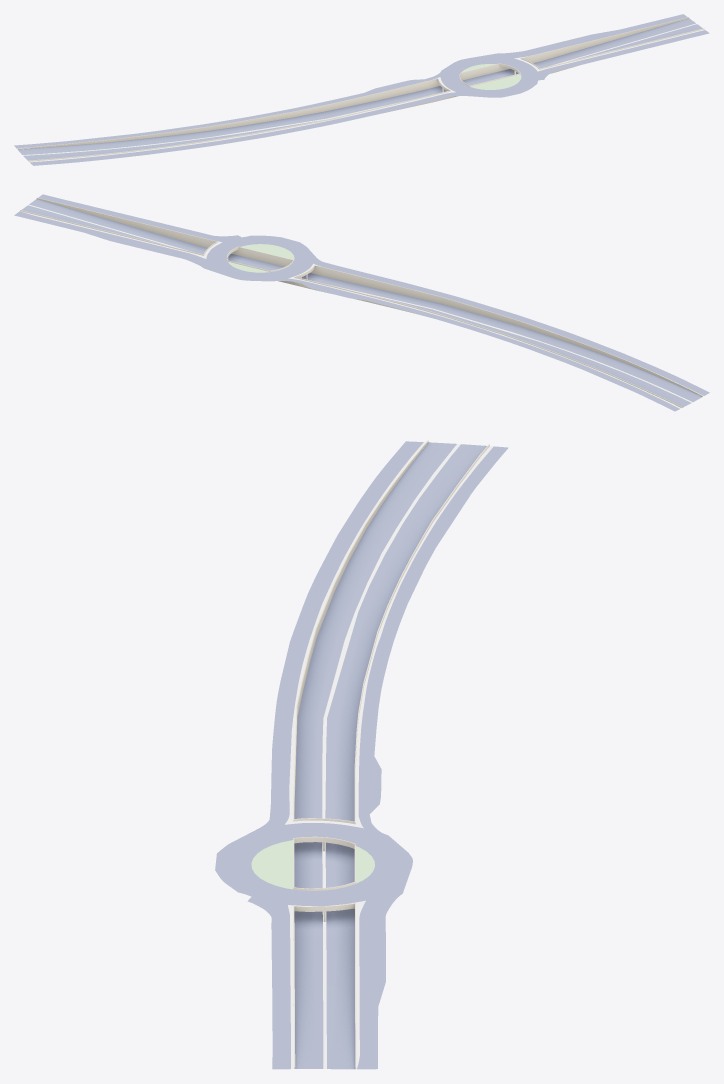
File: Al-Mustafina-tinted.glb
The picture shows the model from 3 angles, top to bottom: view 1: azimuth 30°, elevation 25°; view 2: azimuth 150°, elevation 25°; view 3: azimuth 270°, elevation 25°; orthographic projection. The views are drawn at different scales.
Visible parts, largest first — view 1: group_3, group_15, group_6.001, group_4.001; view 2: group_3, group_15, group_6.001, group_4.001; view 3: group_3, group_6.001, group_15, group_4.001.
Part boxes in pixels (<box>): group_3: <box>14,14,709,165</box>; group_15: <box>17,17,704,161</box>; group_6.001: <box>22,23,704,162</box>; group_4.001: <box>461,64,521,89</box>; group_3: <box>14,194,709,411</box>; group_15: <box>20,197,702,407</box>; group_6.001: <box>20,204,703,408</box>; group_4.001: <box>228,244,294,272</box>; group_3: <box>215,441,508,1069</box>; group_6.001: <box>285,442,493,1069</box>; group_15: <box>293,440,489,1069</box>; group_4.001: <box>251,840,374,889</box>.
Bounding box in the file's own units: 688 × 8 × 136.
Materials: 4 (2 with a texture image).
